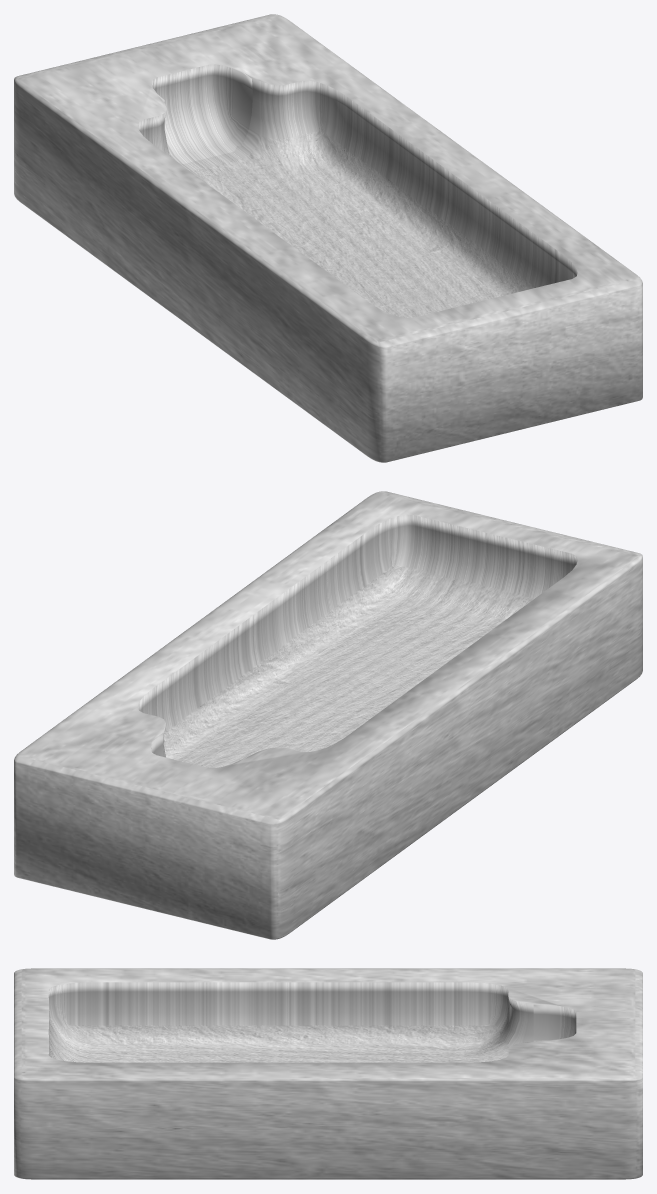
The model's file is Model23Third.gltf.
3 renders of one model, top to bottom at view 1: azimuth 30°, elevation 25°; view 2: azimuth 150°, elevation 25°; view 3: azimuth 270°, elevation 25°, orthographic. The views are drawn at different scales.
Visible parts, largest first — view 1: Cube; view 2: Cube; view 3: Cube.
Part boxes in pixels (bbox=[...]): Cube: bbox=[14, 14, 642, 462]; Cube: bbox=[14, 491, 642, 939]; Cube: bbox=[14, 968, 642, 1179].
Bounding box in the file's own units: 4.72 × 2.03 × 11.21.
Materials: 1 (1 with a texture image).
